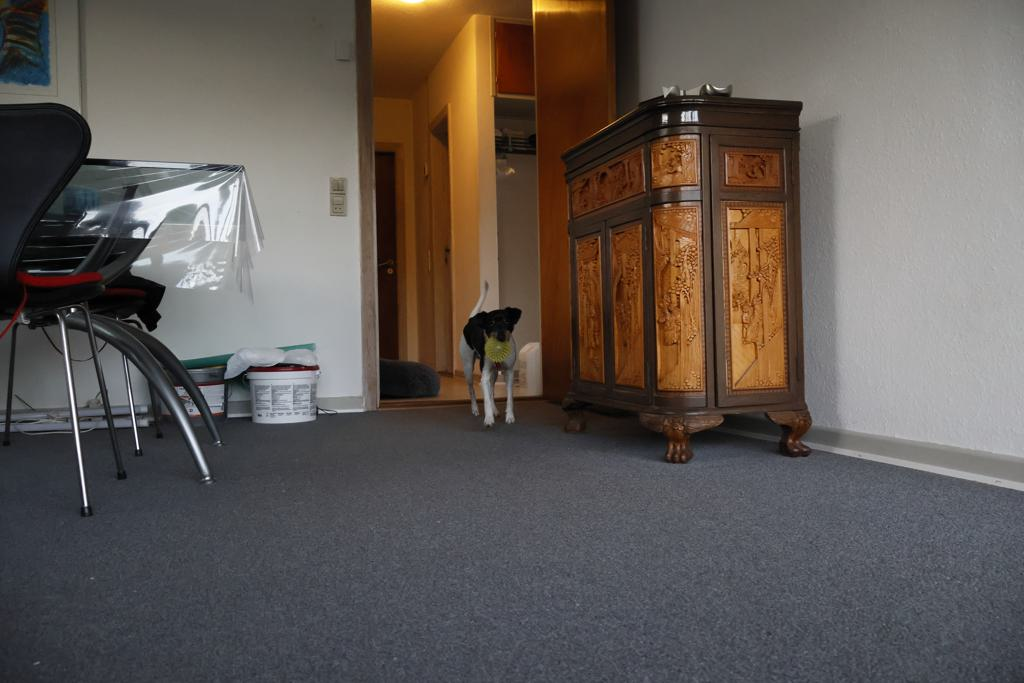Dog: (450, 274, 531, 441)
